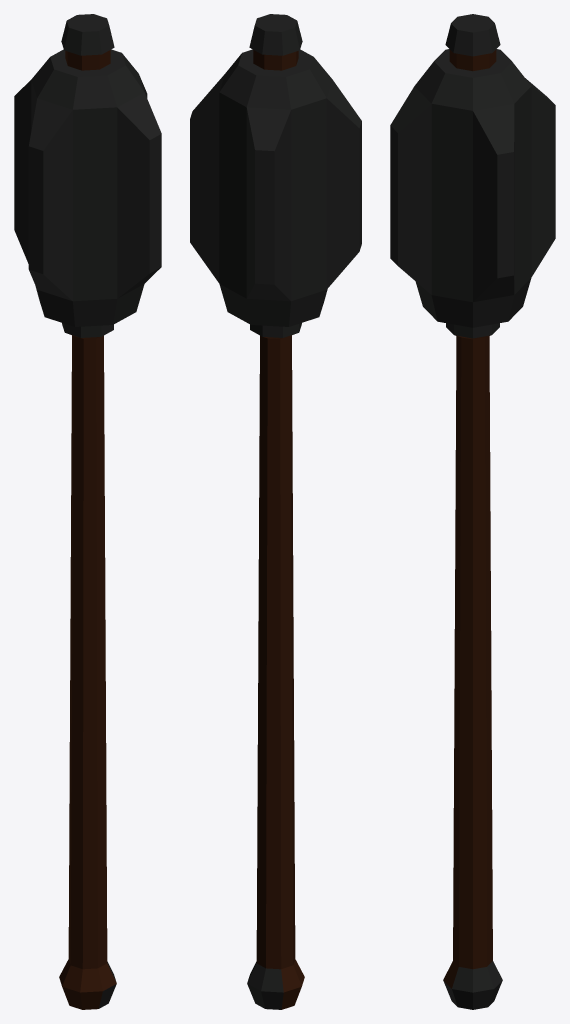
The model's file is greatmace.obj.
3 renders of one model, left to right at view 1: azimuth 30°, elevation 25°; view 2: azimuth 150°, elevation 25°; view 3: azimuth 270°, elevation 25°, orthographic.
Visible parts, largest first — view 1: Mace2_Cube.002; view 2: Mace2_Cube.002; view 3: Mace2_Cube.002.
Part boxes in pixels (x1,y1,x2,y2): Mace2_Cube.002: [14, 14, 161, 1009]; Mace2_Cube.002: [190, 14, 361, 1009]; Mace2_Cube.002: [390, 14, 555, 1009].
Size of the model in its own units: 0.3067 by 2.01 by 0.3078.
